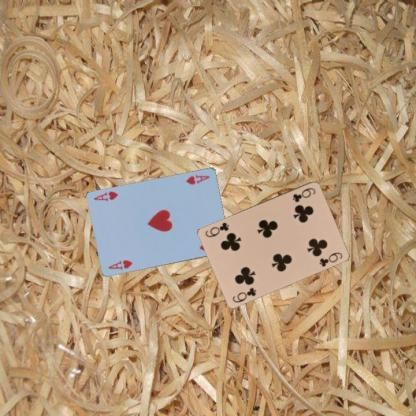6c: (230, 285, 258, 303), (290, 185, 317, 203)
Ah: (184, 172, 211, 186), (106, 257, 133, 271)
